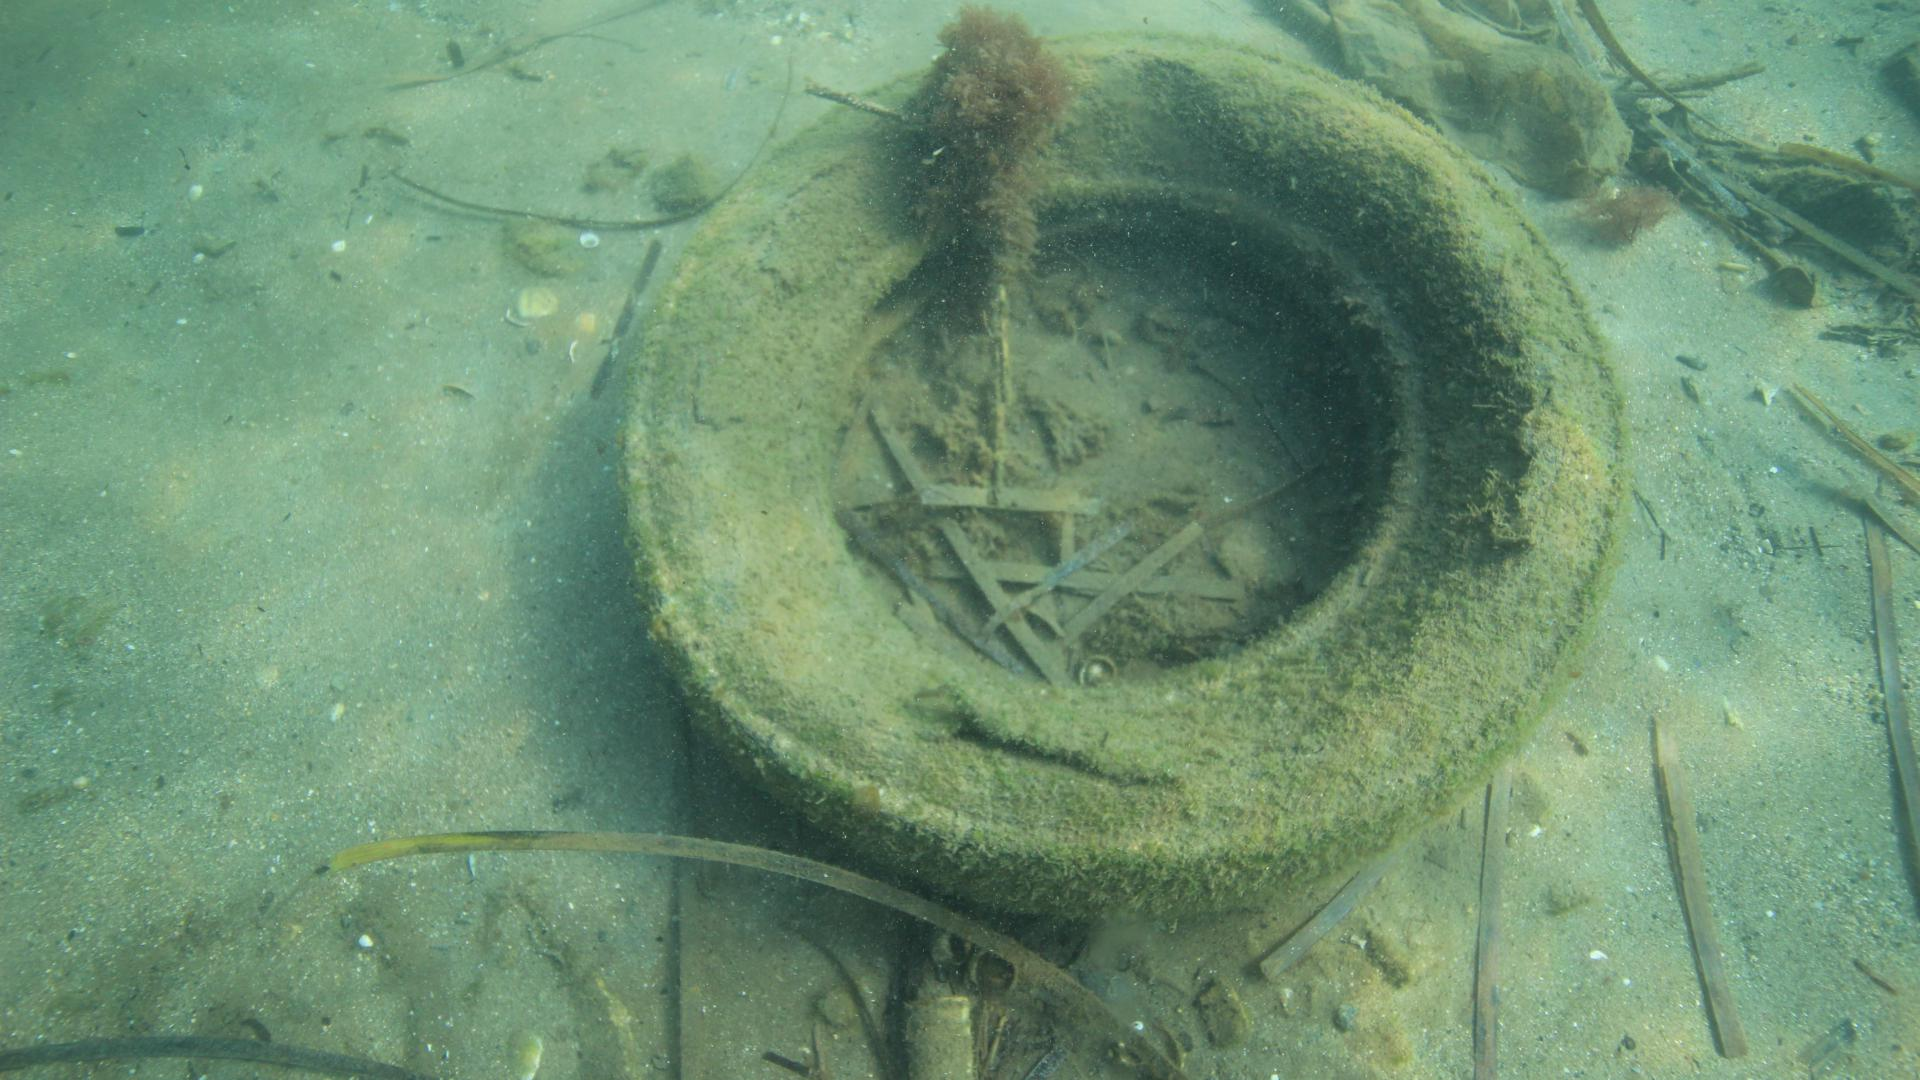tire: (620, 33, 1630, 916)
